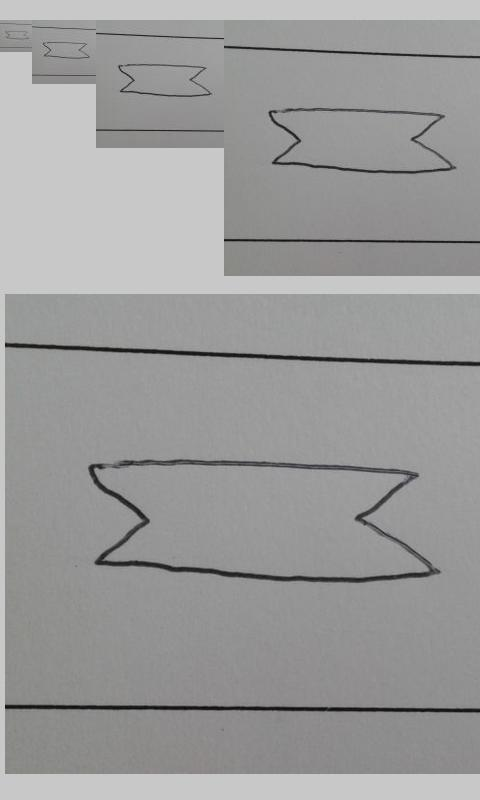edit_text: (86, 453, 437, 586), (268, 107, 454, 175), (117, 63, 212, 98), (42, 41, 90, 60), (4, 30, 29, 40)
